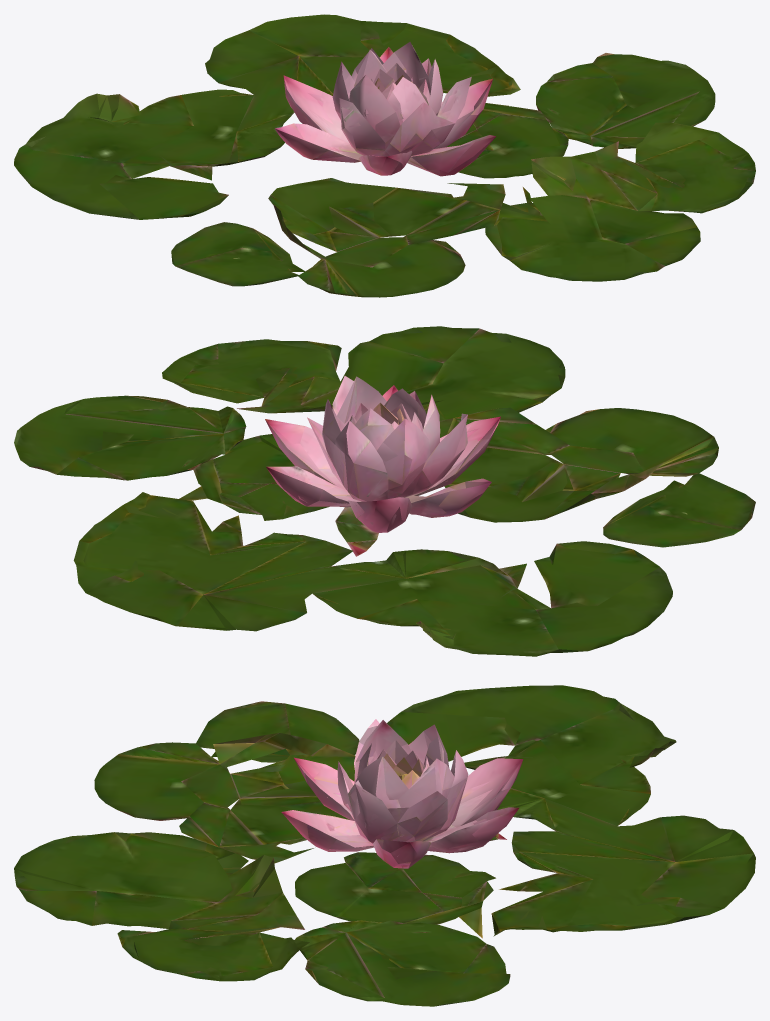
The model's file is scene_lily_pads.glb.
The picture shows the model from 3 angles, top to bottom: view 1: azimuth 30°, elevation 25°; view 2: azimuth 150°, elevation 25°; view 3: azimuth 270°, elevation 25°; orthographic projection. The views are drawn at different scales.
Size of the model in its own units: 1.9 by 0.3316 by 1.86.
Materials: 1 (1 with a texture image).
